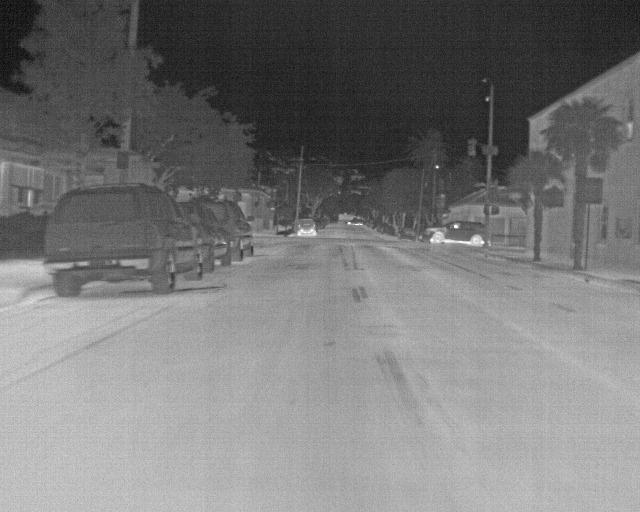car: (43, 185, 202, 299), (184, 200, 232, 272), (420, 219, 486, 246), (227, 200, 254, 263), (294, 216, 314, 237), (398, 226, 416, 241)
